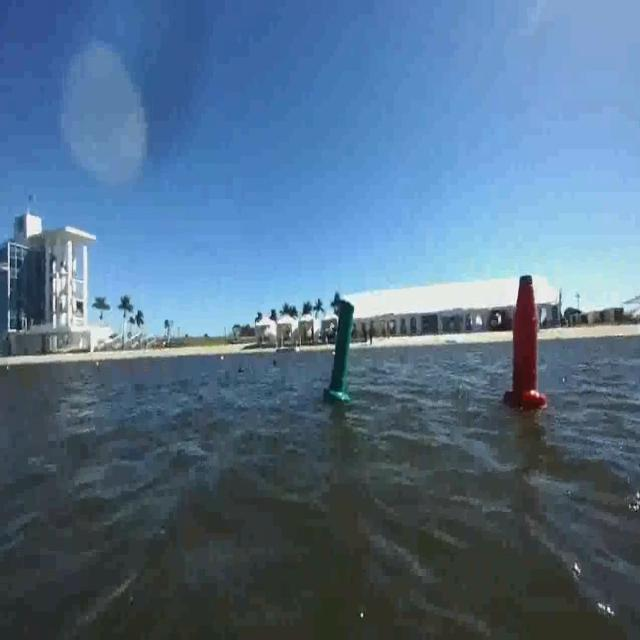green-column-buoy: (326, 299, 355, 404)
red-column-buoy: (508, 274, 549, 412)
